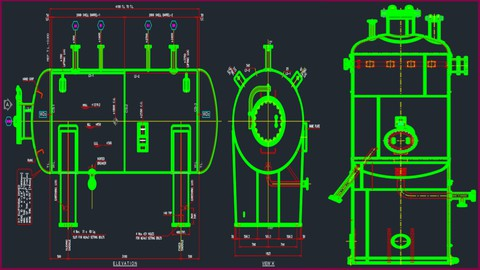nozzle: (8, 96, 43, 151), (375, 1, 426, 38)
